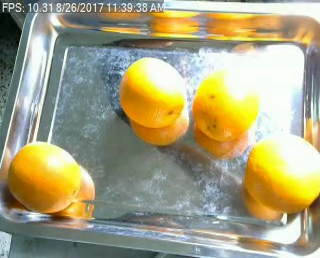Orange: (244, 131, 319, 212), (6, 140, 79, 213), (118, 55, 188, 126)
